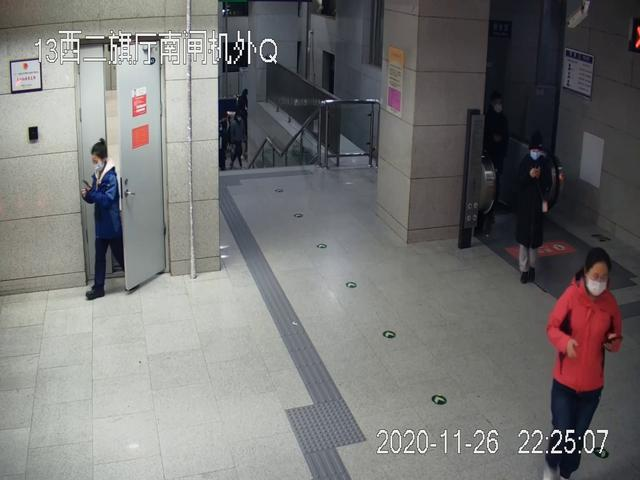person: (546, 247, 621, 480), (81, 137, 130, 302), (512, 137, 555, 285)
